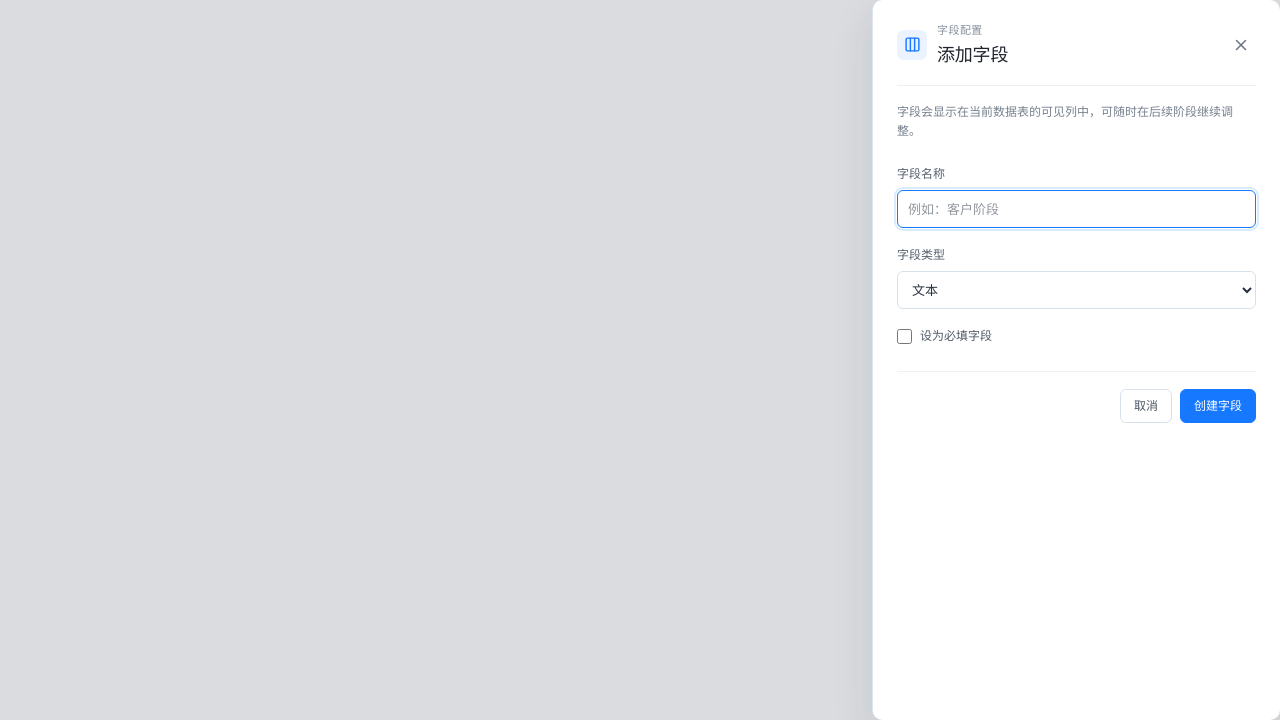
it: renders the fixed duplicate-name feedback without rendering the server message
Type "客户阶段" into the field labelled "字段名称" at (1076, 209), box [897,190,1256,228]
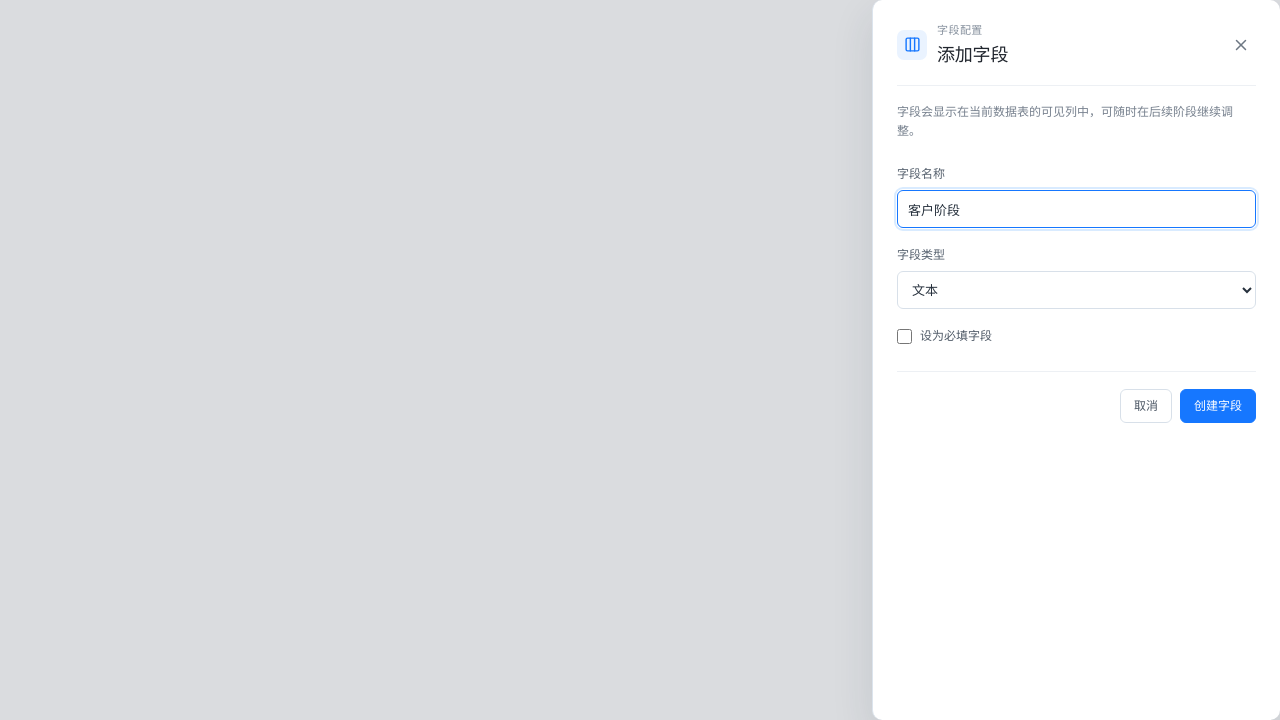
Click the button "创建字段" at (1218, 406), box [1180,389,1256,423]
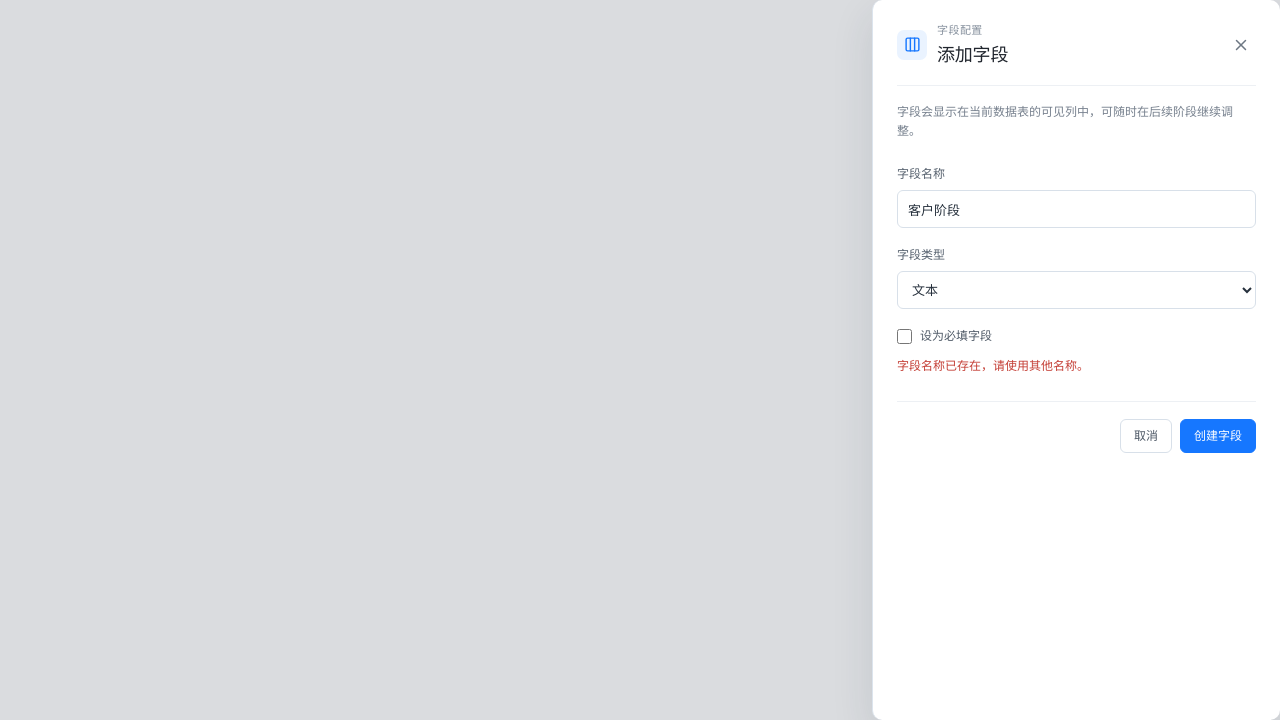
Now the message reads "字段名称已存在，请使用其他名称。", box [897,357,1089,374]
